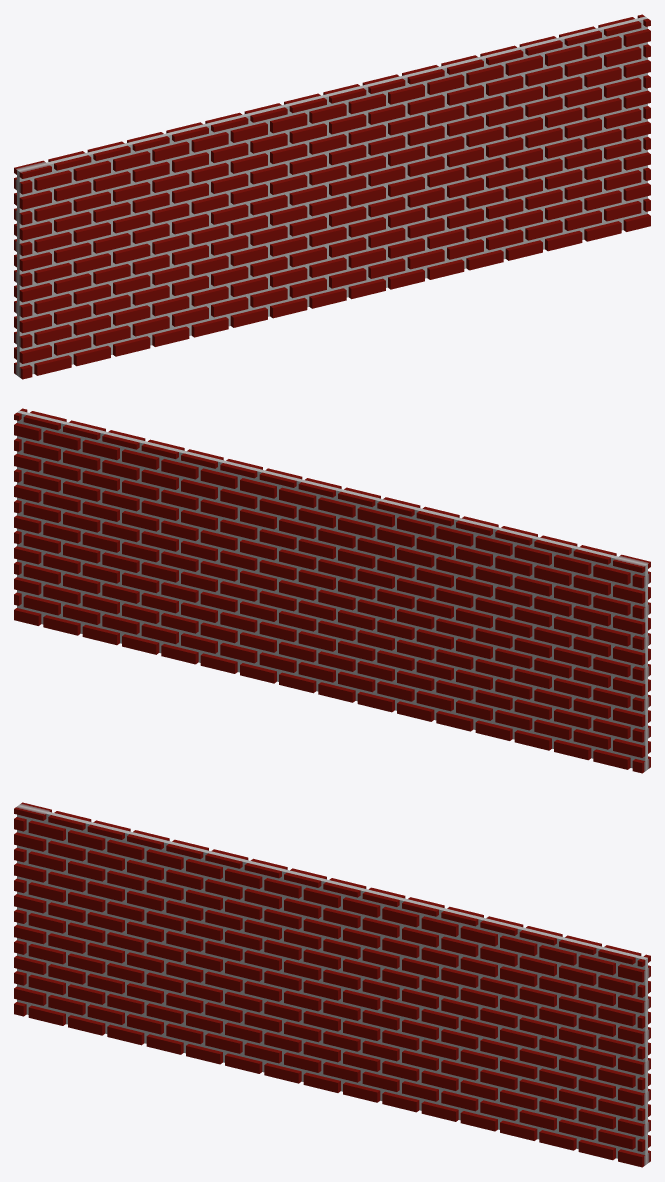
Rendered from Wall.dae.
3 renders of one model, top to bottom at view 1: azimuth 30°, elevation 25°; view 2: azimuth 150°, elevation 25°; view 3: azimuth 330°, elevation 25°, orthographic.
Parts seen in each view (by area): view 1: Matrix; view 2: Matrix; view 3: Matrix.
Boxes of the visible parts, bbox=[...] form: Matrix: bbox=[14, 14, 650, 379]; Matrix: bbox=[14, 408, 650, 773]; Matrix: bbox=[14, 802, 650, 1167].
Bounding box in the file's own units: 128 × 40 × 3.
1 material, 1 textured.
